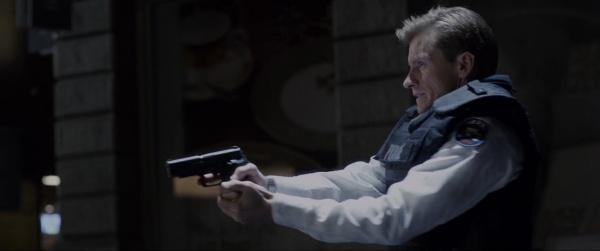Gun: (166, 146, 246, 187)
